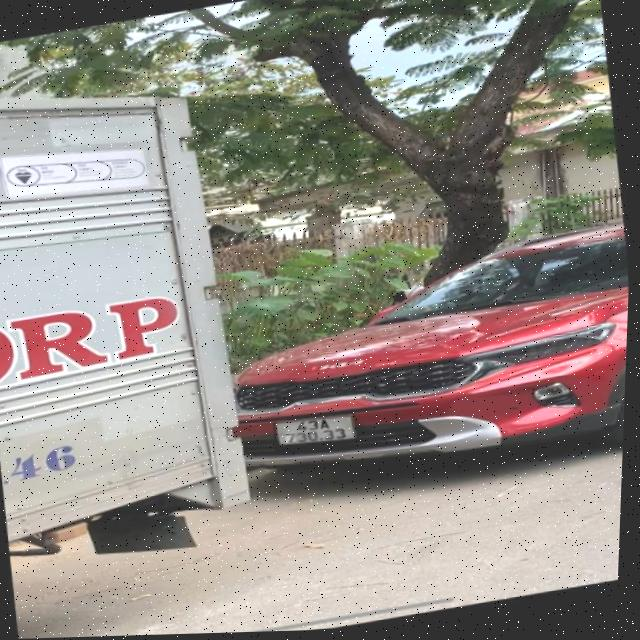car: (219, 219, 631, 495), (0, 89, 248, 537)
plate: (268, 406, 362, 455)
